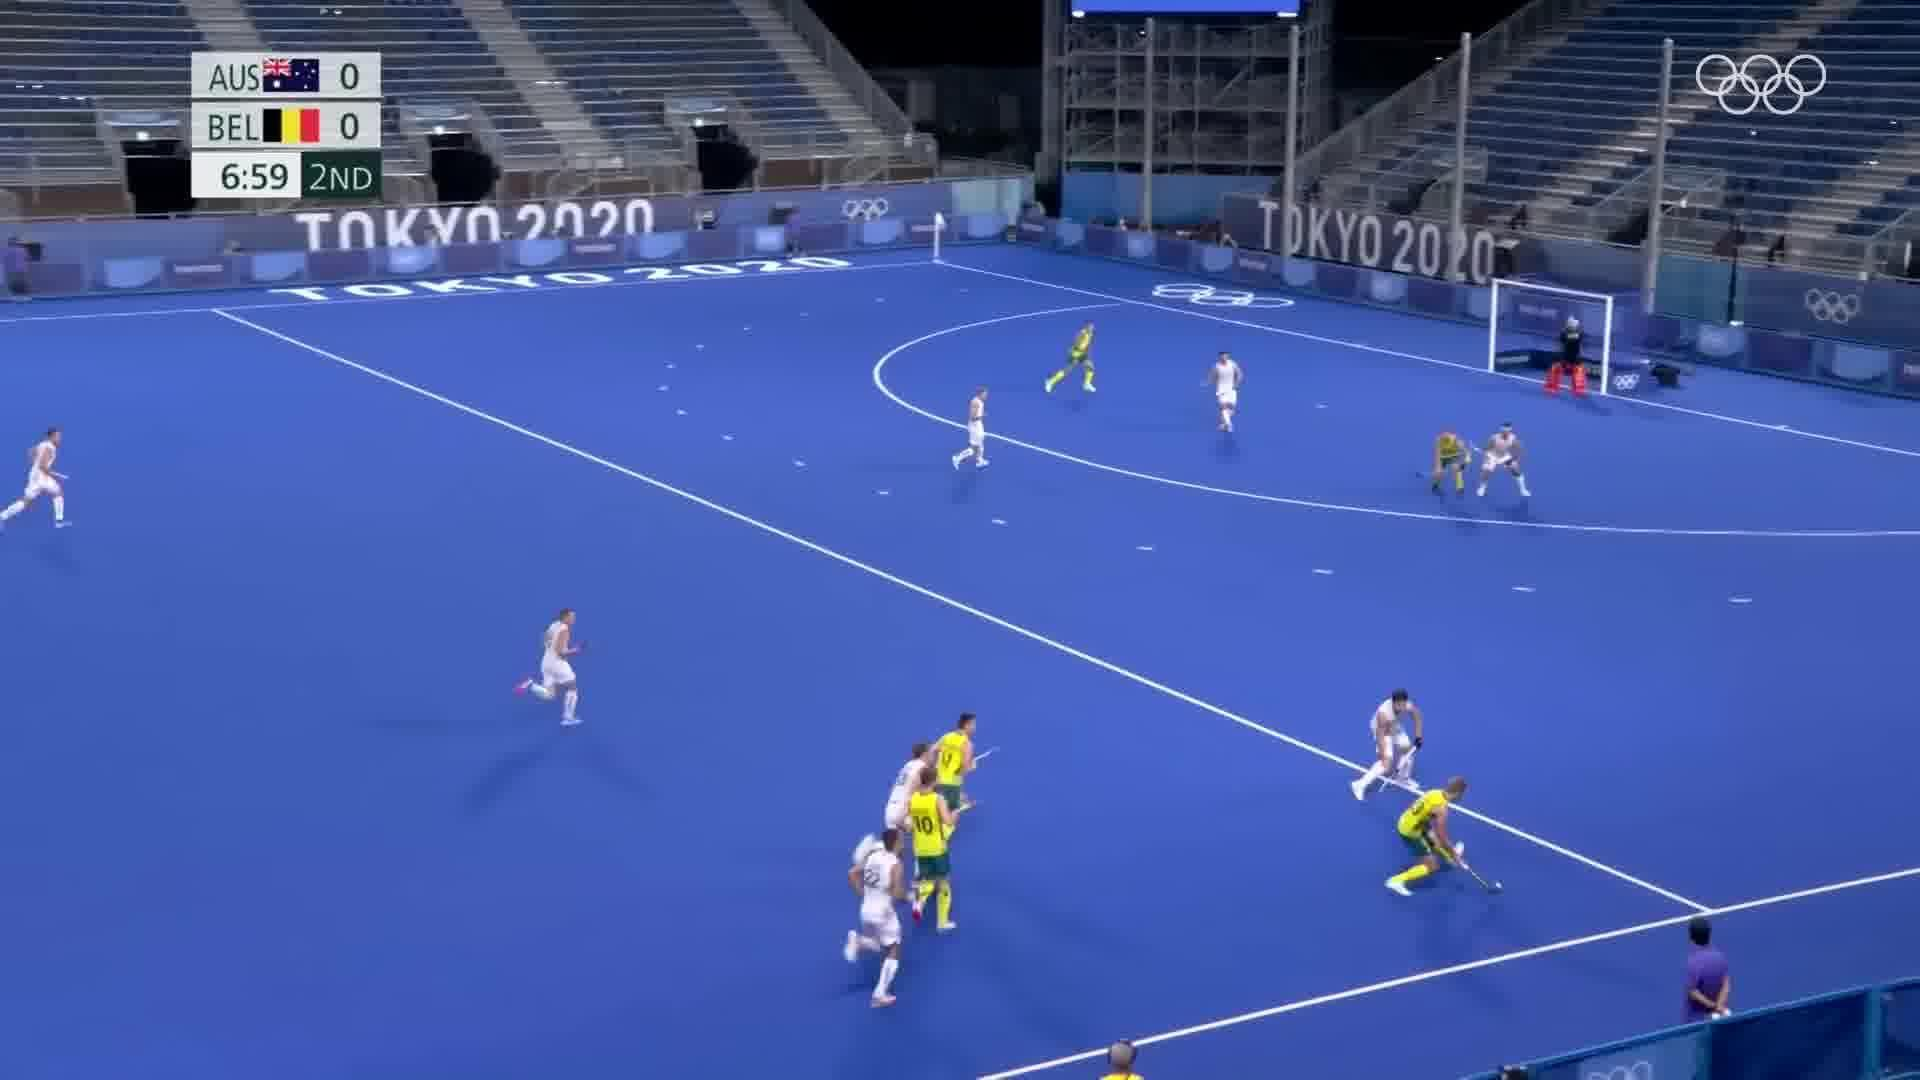ball: (1491, 877, 1507, 895)
